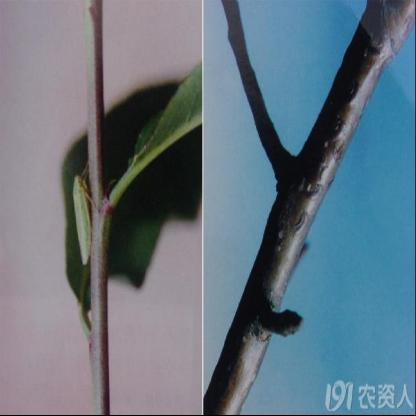Green-Leafhopper: (69, 163, 102, 271)
